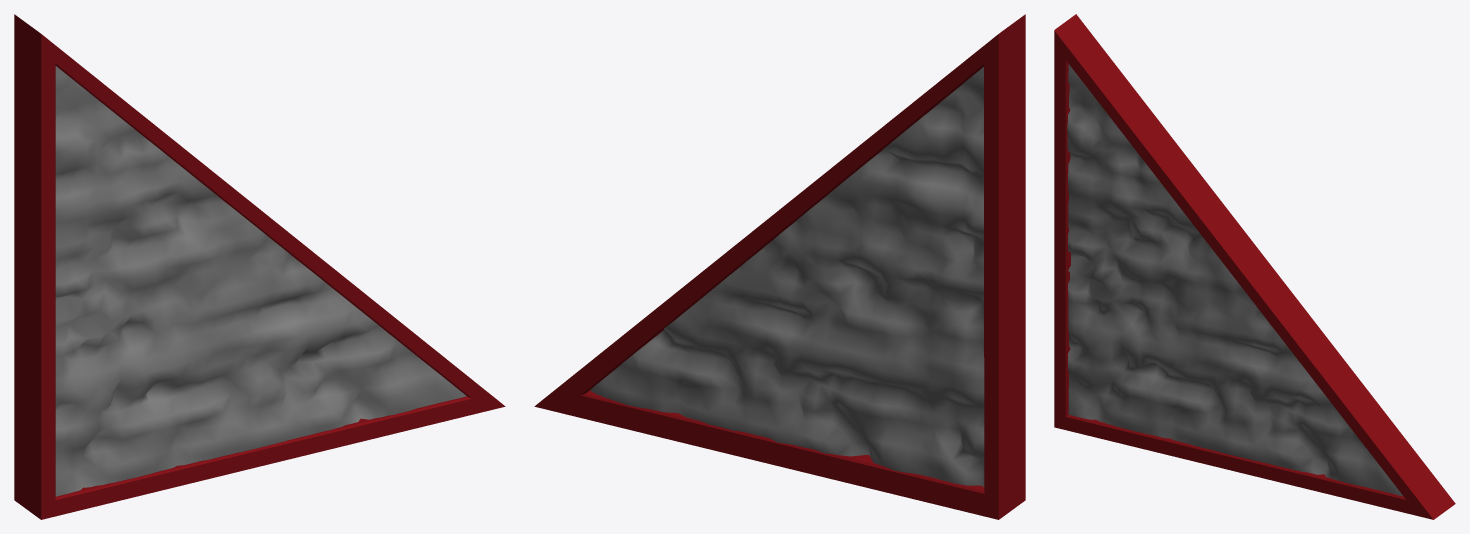
The model's file is SM_MH_01_Stone_Wall_Roof_R_02.fbx.
The picture shows the model from 3 angles, left to right: view 1: azimuth 30°, elevation 25°; view 2: azimuth 150°, elevation 25°; view 3: azimuth 330°, elevation 25°; orthographic projection. The views are drawn at different scales.
Parts seen in each view (by area): view 1: SM_MH_01_Stone_Wall_Roof_R_02_LOD0; view 2: SM_MH_01_Stone_Wall_Roof_R_02_LOD0; view 3: SM_MH_01_Stone_Wall_Roof_R_02_LOD0.
Boxes of the visible parts, box(x1,y1,x2,y2) form: SM_MH_01_Stone_Wall_Roof_R_02_LOD0: box(14, 14, 505, 519); SM_MH_01_Stone_Wall_Roof_R_02_LOD0: box(534, 14, 1025, 519); SM_MH_01_Stone_Wall_Roof_R_02_LOD0: box(1054, 14, 1455, 519).
Size of what is drawn, in the model's own units: 300 by 300 by 35.39.
